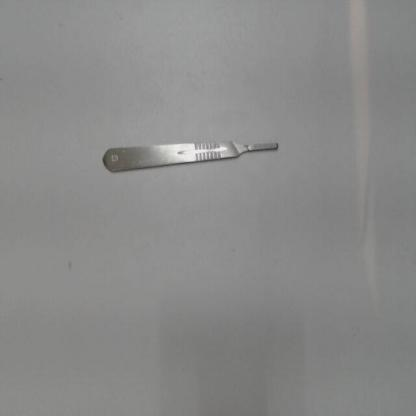No.4 BP Handle: (95, 134, 282, 175)
